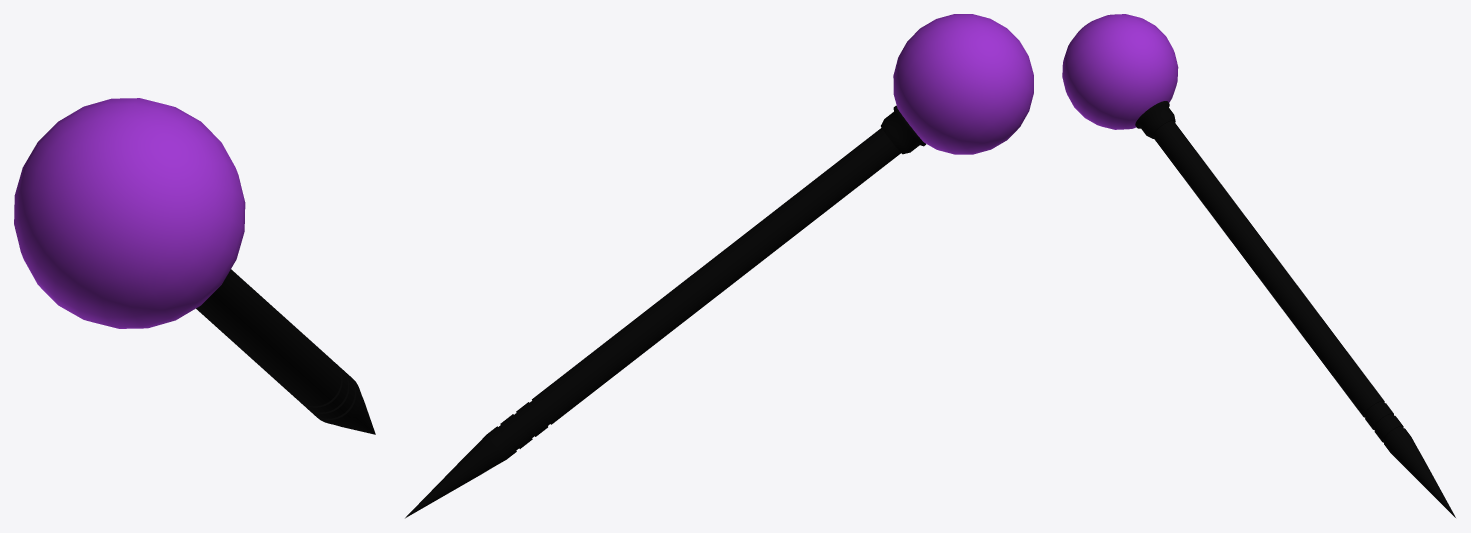
The model's file is DARKOCHID.glb.
3 views of the same model, side by side, from view 1: azimuth 30°, elevation 25°; view 2: azimuth 150°, elevation 25°; view 3: azimuth 270°, elevation 25° (orthographic). The views are drawn at different scales.
Visible parts, largest first — view 1: Sphere, Needle; view 2: Needle, Sphere, Ball_Holder; view 3: Needle, Sphere, Ball_Holder.
Boxes of the visible parts, box(x1,y1,x2,y2) form: Sphere: box(14, 98, 245, 328); Needle: box(196, 269, 375, 434); Needle: box(405, 128, 900, 518); Sphere: box(893, 14, 1033, 154); Ball_Holder: box(881, 105, 926, 154); Needle: box(1152, 120, 1455, 517); Sphere: box(1062, 14, 1178, 129); Ball_Holder: box(1135, 101, 1175, 138).
Size of the model in its own units: 7.45 by 7.45 by 7.45.
